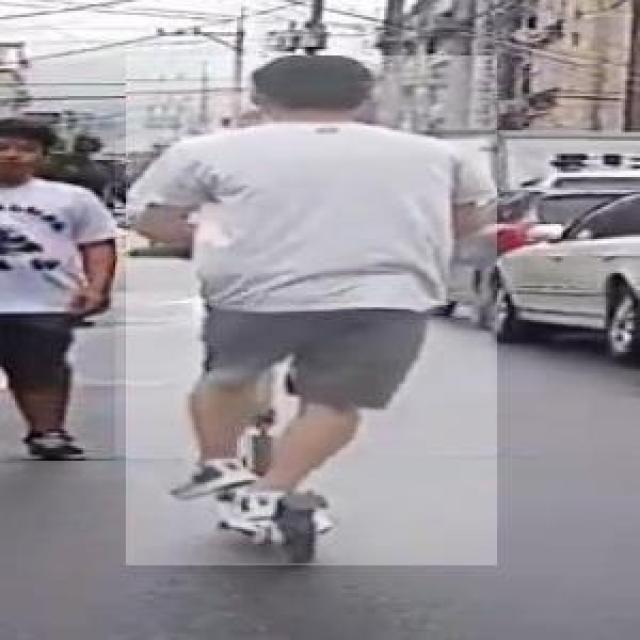pedestrian: (126, 56, 497, 566), (0, 117, 115, 461)
